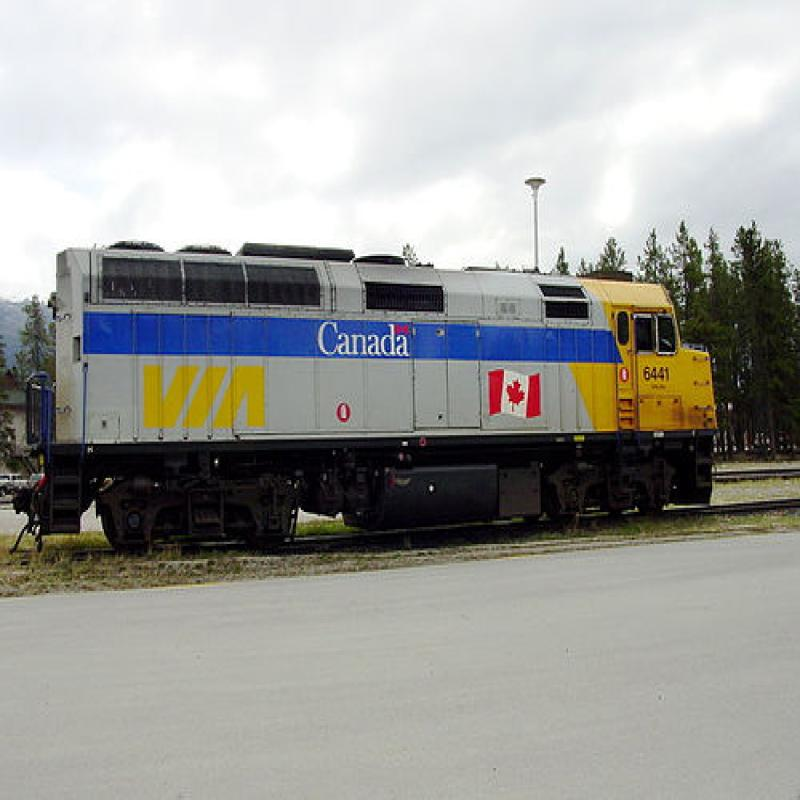train: (3, 229, 728, 573)
